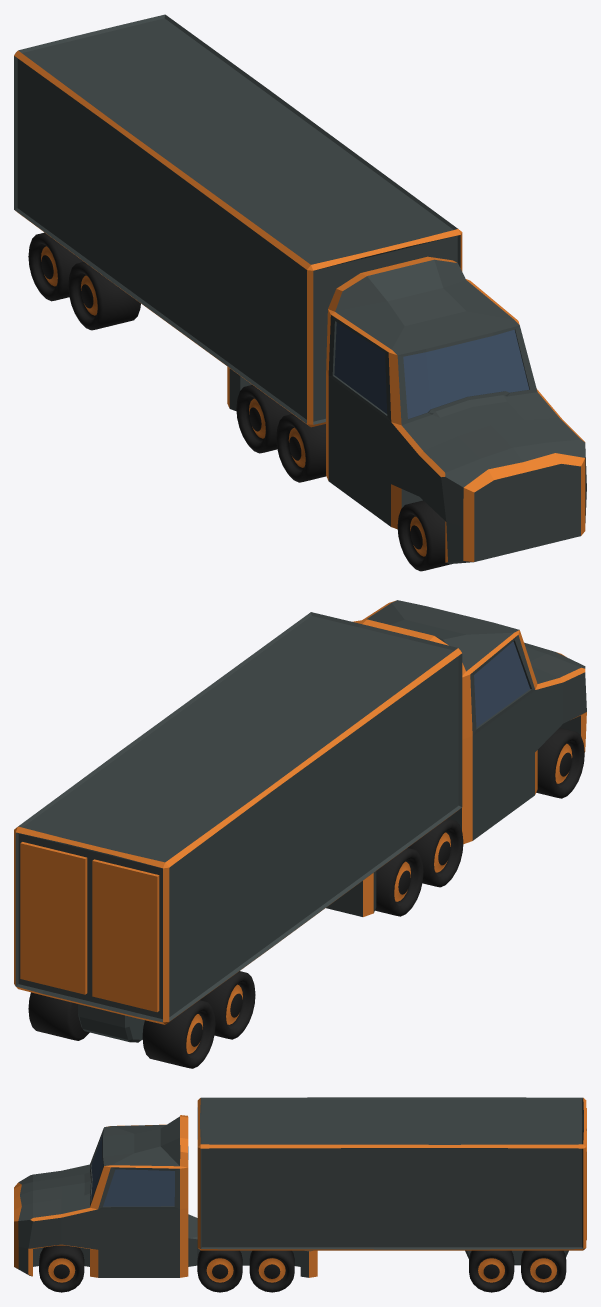
The model's file is truck.glb.
3 renders of one model, top to bottom at view 1: azimuth 30°, elevation 25°; view 2: azimuth 150°, elevation 25°; view 3: azimuth 270°, elevation 25°, orthographic. The views are drawn at different scales.
Visible parts, largest first — view 1: Cube.001, Cube, Cylinder.006, Cylinder.003, Cylinder.001, Cylinder.005, Cylinder.004; view 2: Cube.001, Cube, Cube.003, Cube.002, Cylinder.004, Cylinder.003, Cylinder.005, Cylinder.001, Cylinder.006; view 3: Cube.001, Cube, Cylinder.003, Cylinder.004, Cylinder.006, Cylinder.005, Cylinder.001.
Boxes of the visible parts, box(x1,y1,x2,y2) form: Cube.001: box(14, 14, 462, 427); Cube: box(227, 256, 586, 563); Cylinder.006: box(68, 262, 140, 330); Cylinder.003: box(397, 500, 451, 571); Cylinder.001: box(276, 414, 325, 482); Cylinder.005: box(236, 385, 291, 453); Cylinder.004: box(28, 232, 83, 301); Cube.001: box(14, 612, 462, 1042); Cube: box(326, 600, 586, 916); Cube.003: box(92, 859, 159, 1012); Cube.002: box(20, 842, 87, 994); Cylinder.004: box(28, 992, 215, 1068); Cylinder.003: box(536, 727, 584, 798); Cylinder.005: box(375, 848, 423, 916); Cylinder.001: box(408, 818, 463, 887); Cylinder.006: box(200, 971, 255, 1039); Cube.001: box(197, 1097, 586, 1265); Cube: box(14, 1115, 317, 1277); Cylinder.003: box(39, 1245, 84, 1292); Cylinder.004: box(521, 1250, 566, 1292); Cylinder.006: box(469, 1250, 514, 1292); Cylinder.005: box(249, 1250, 294, 1292); Cylinder.001: box(197, 1250, 242, 1292).
Size of the model in its own units: 5.2 by 7.19 by 25.33.
